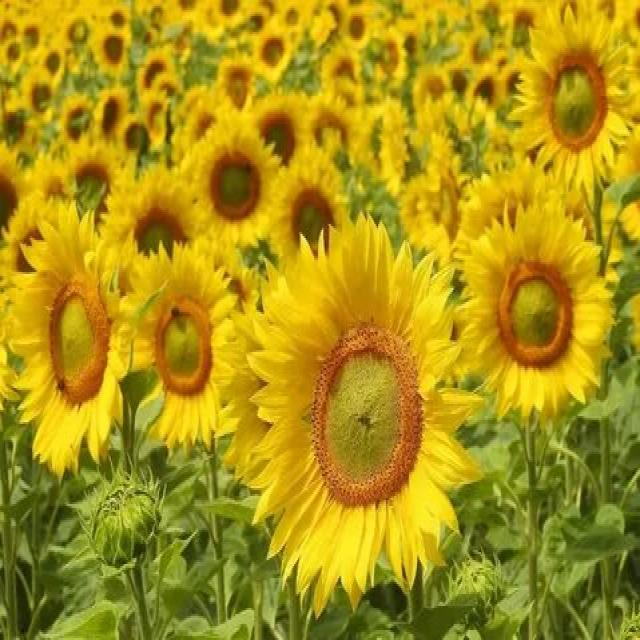sunflower: (218, 206, 480, 606), (462, 176, 616, 424), (113, 228, 264, 468), (10, 196, 130, 488), (509, 4, 640, 206), (188, 116, 280, 252), (252, 20, 296, 88)
